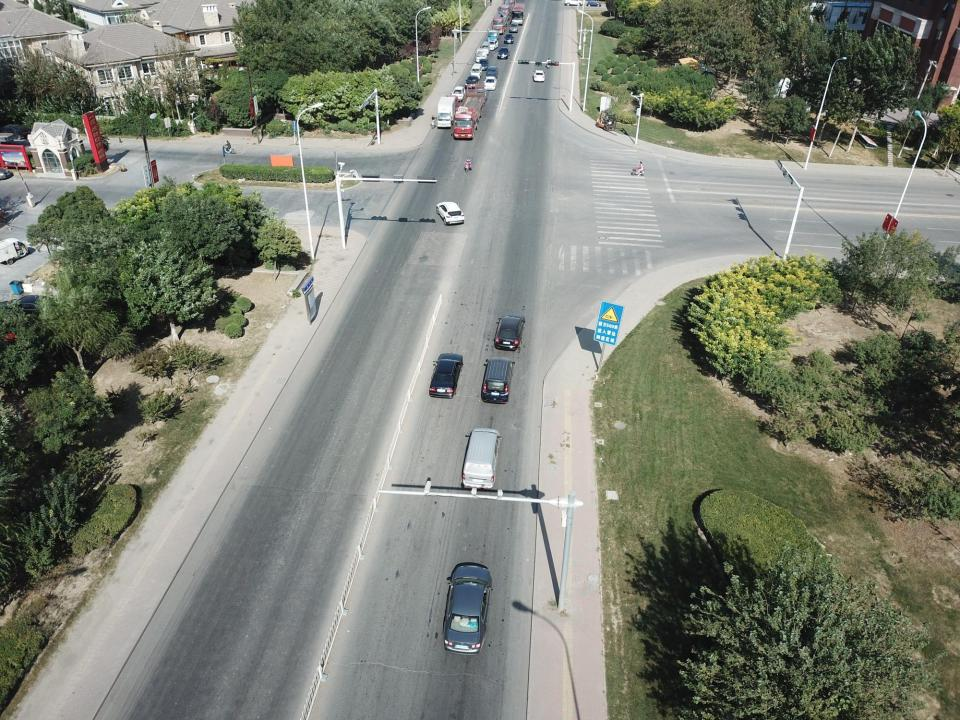bus: (510, 4, 524, 25)
car: (442, 563, 494, 653), (0, 293, 58, 330), (430, 354, 462, 398), (494, 314, 526, 351), (0, 121, 33, 141), (437, 202, 464, 225), (475, 88, 489, 106), (451, 85, 465, 100), (532, 69, 546, 83), (484, 76, 497, 90), (466, 77, 478, 89), (447, 94, 457, 108), (503, 33, 514, 44), (479, 58, 489, 70), (487, 40, 498, 50), (497, 49, 509, 58), (588, 1, 603, 8), (509, 22, 518, 33), (563, 1, 582, 6)
truck: (454, 84, 484, 139), (492, 10, 509, 34), (499, 0, 515, 15), (476, 47, 488, 62), (487, 30, 501, 41)
van: (461, 426, 500, 490), (481, 357, 513, 405), (437, 97, 455, 130), (484, 66, 499, 80), (470, 63, 482, 80), (481, 41, 489, 53)
